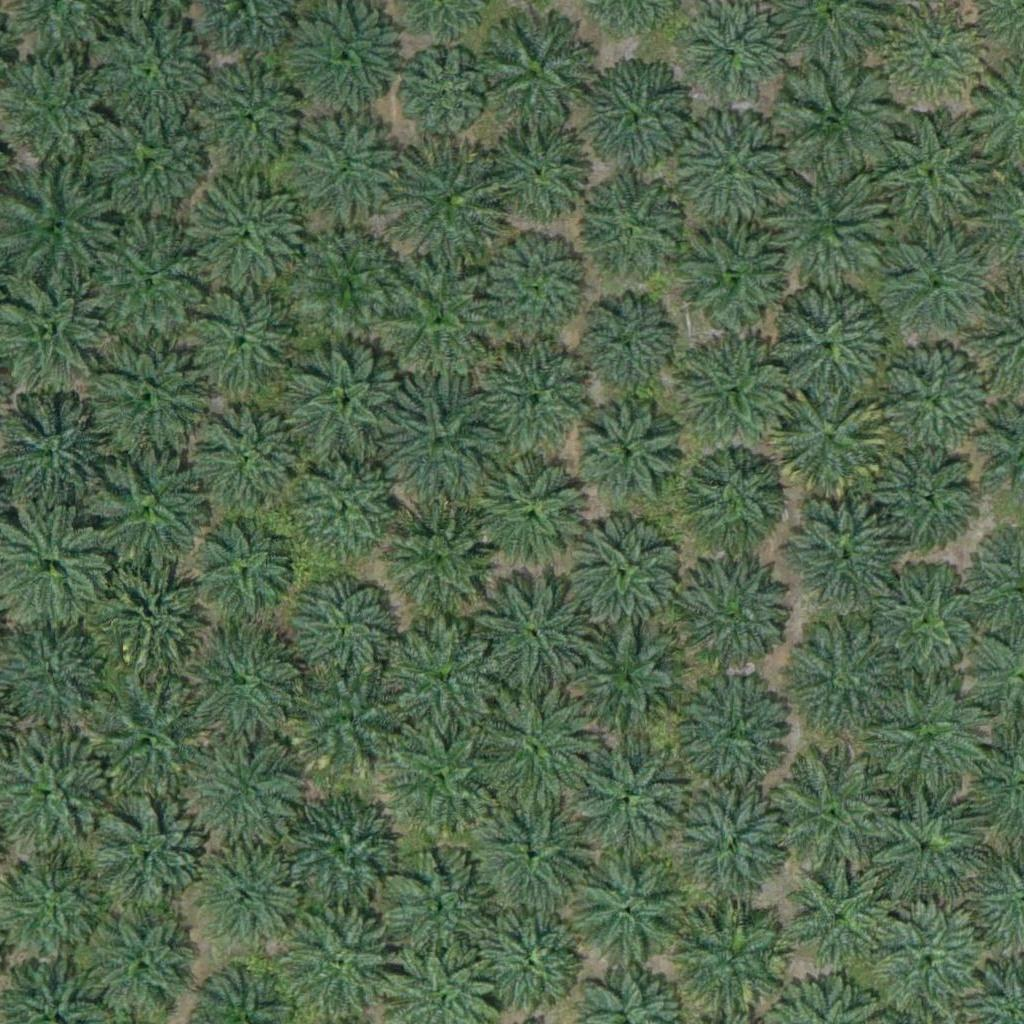Kelapa_Sawit: (865, 116, 990, 242), (763, 288, 888, 414), (757, 167, 882, 293), (781, 63, 906, 189), (672, 215, 797, 341), (374, 385, 499, 511), (389, 139, 514, 265), (285, 348, 410, 474), (867, 560, 992, 686), (85, 337, 210, 463), (85, 219, 210, 345), (92, 103, 217, 229), (92, 19, 217, 145), (96, 546, 221, 672), (86, 669, 211, 795), (87, 798, 212, 924), (182, 736, 307, 862), (183, 626, 308, 752), (280, 789, 405, 915), (377, 847, 502, 973), (469, 684, 594, 810), (471, 788, 596, 914), (467, 895, 592, 1021), (565, 849, 690, 975), (672, 552, 797, 678), (675, 670, 800, 796), (671, 896, 796, 1022), (768, 752, 893, 878), (775, 620, 900, 746), (780, 492, 905, 618), (864, 683, 989, 809), (858, 786, 983, 912), (770, 385, 895, 510), (672, 327, 797, 452), (470, 570, 595, 695), (571, 732, 696, 857), (571, 620, 696, 745), (671, 783, 796, 908), (186, 285, 299, 399), (199, 408, 312, 522), (881, 228, 994, 341), (879, 342, 992, 455), (477, 17, 590, 130), (480, 225, 593, 338), (195, 182, 308, 295), (291, 454, 404, 567), (384, 618, 497, 731), (286, 573, 399, 686), (293, 671, 406, 784), (676, 117, 788, 230), (578, 63, 690, 176), (484, 346, 596, 459), (378, 263, 490, 376), (289, 5, 401, 118), (289, 117, 401, 230), (94, 456, 206, 569), (384, 497, 496, 610), (480, 459, 592, 572), (874, 443, 974, 544), (684, 443, 784, 544), (579, 403, 679, 504), (571, 296, 671, 397), (581, 179, 681, 280), (487, 124, 587, 225), (392, 48, 492, 149), (293, 230, 393, 331), (212, 68, 312, 169), (194, 523, 294, 624), (392, 724, 492, 825), (574, 526, 674, 627), (791, 870, 891, 971), (204, 856, 304, 956)
